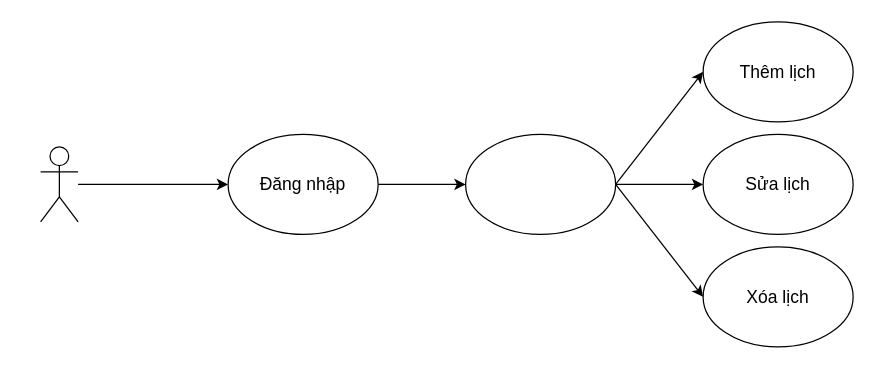
The diagram is 875 pixels wide and 369 high, and some of its shapes have lost their labels. Here are the shapes that lost their labels. From the top down, the box of each, then its label:
(39, 146, 78, 222): Sinh Viên
(464, 133, 616, 234): Quản lý lịch học
